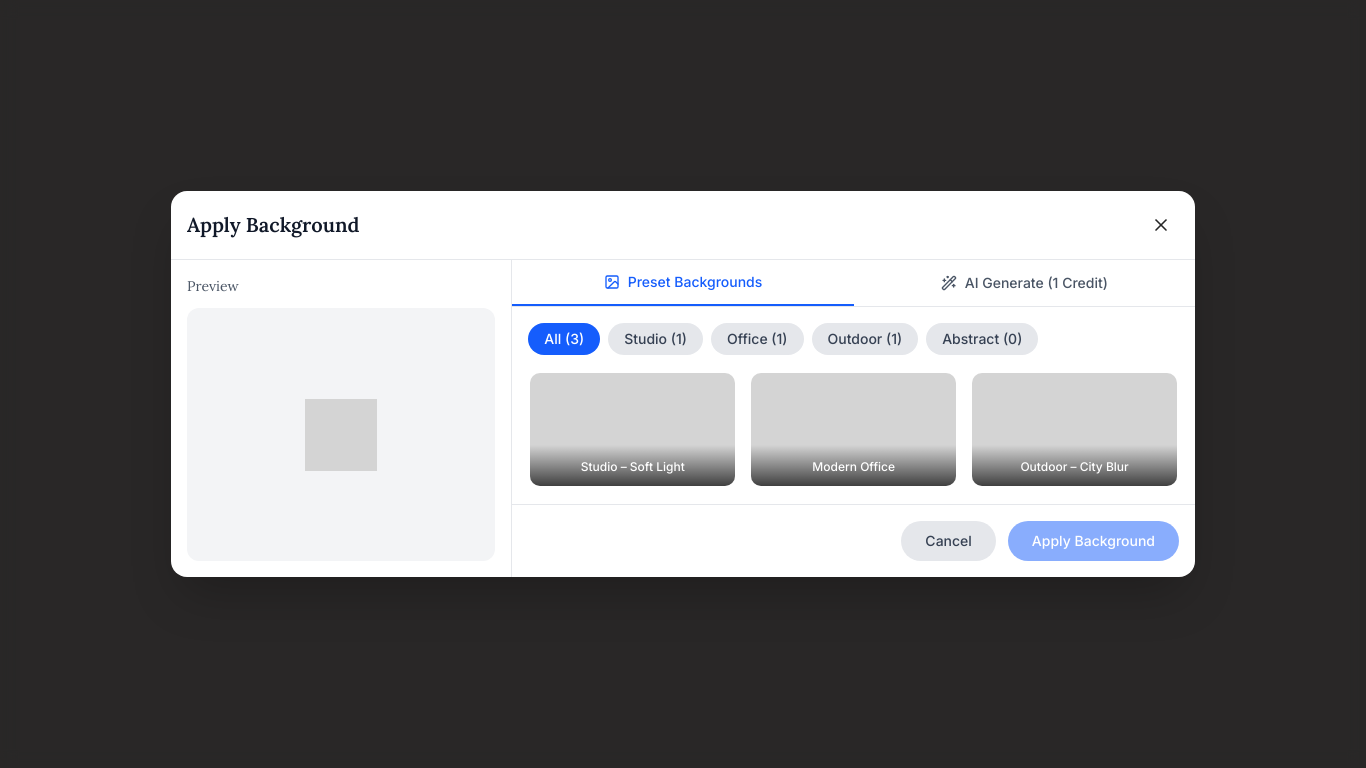
it: BackgroundModal › enables apply button when background selected
Select a background
What coordinates should you click on to do the following:
click the button "Studio – Soft Light"
I would click on:
 (633, 430)
Its box is [528,371,737,488].
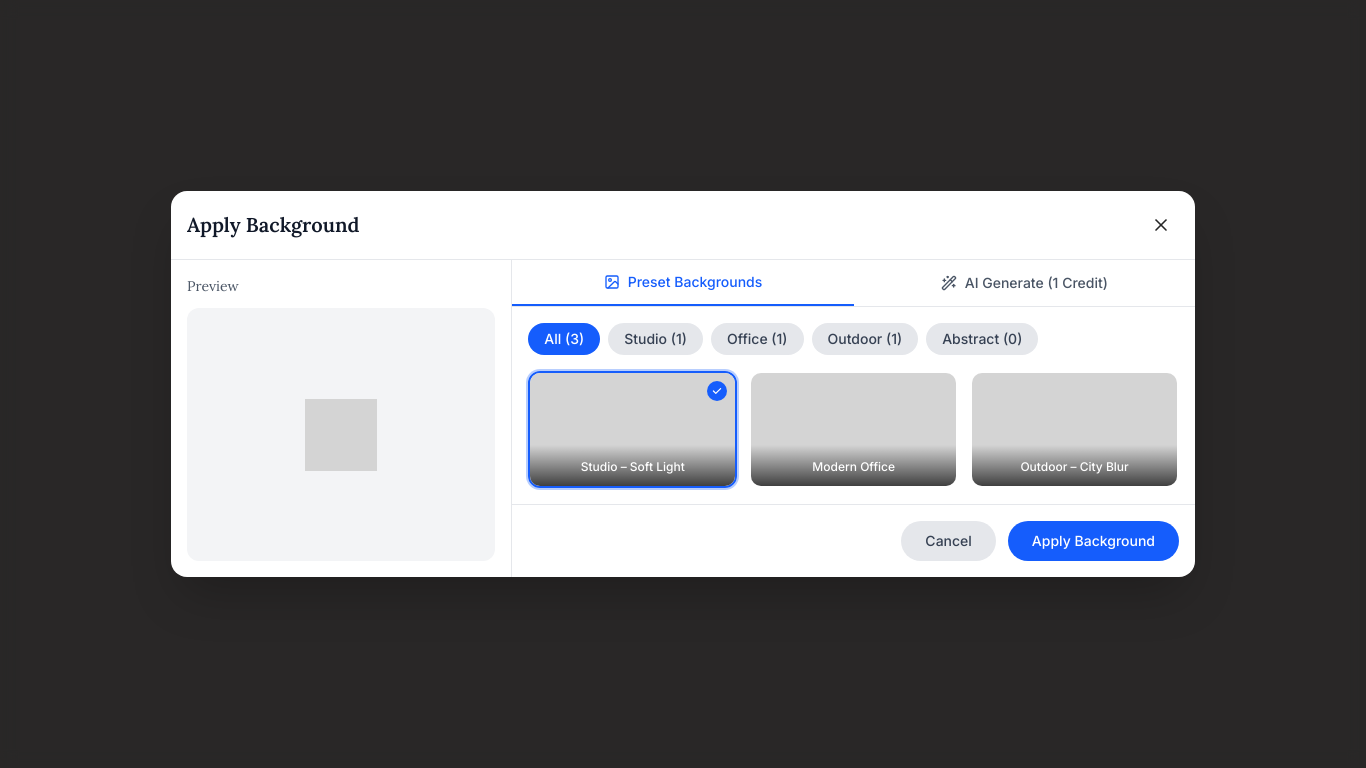
Result: the button "Apply Background" is enabled at [1008,521,1179,561]
